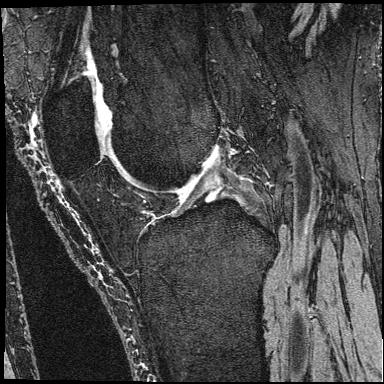SagKneeJointArea: (41, 75, 281, 308)
